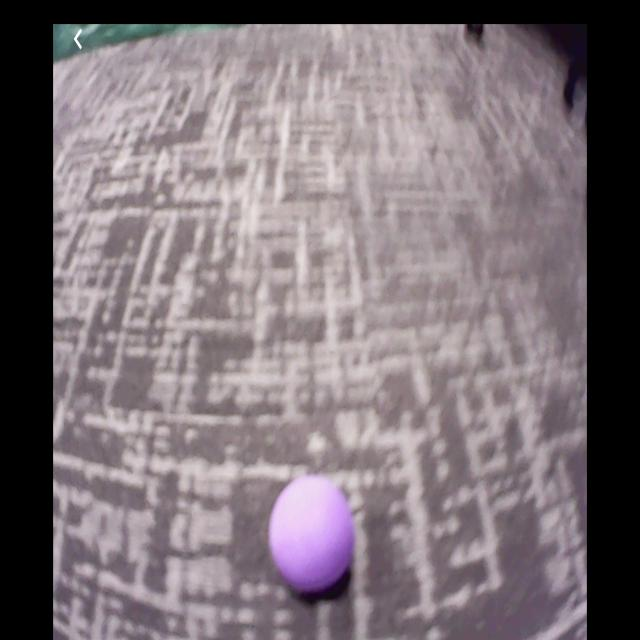ball: (271, 479, 355, 592)
